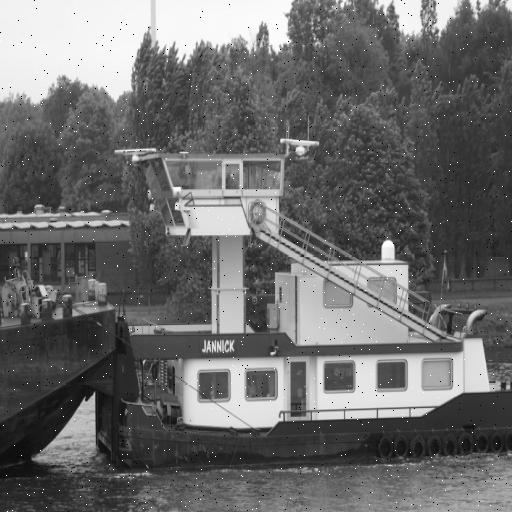tugboat: (107, 124, 512, 468)
